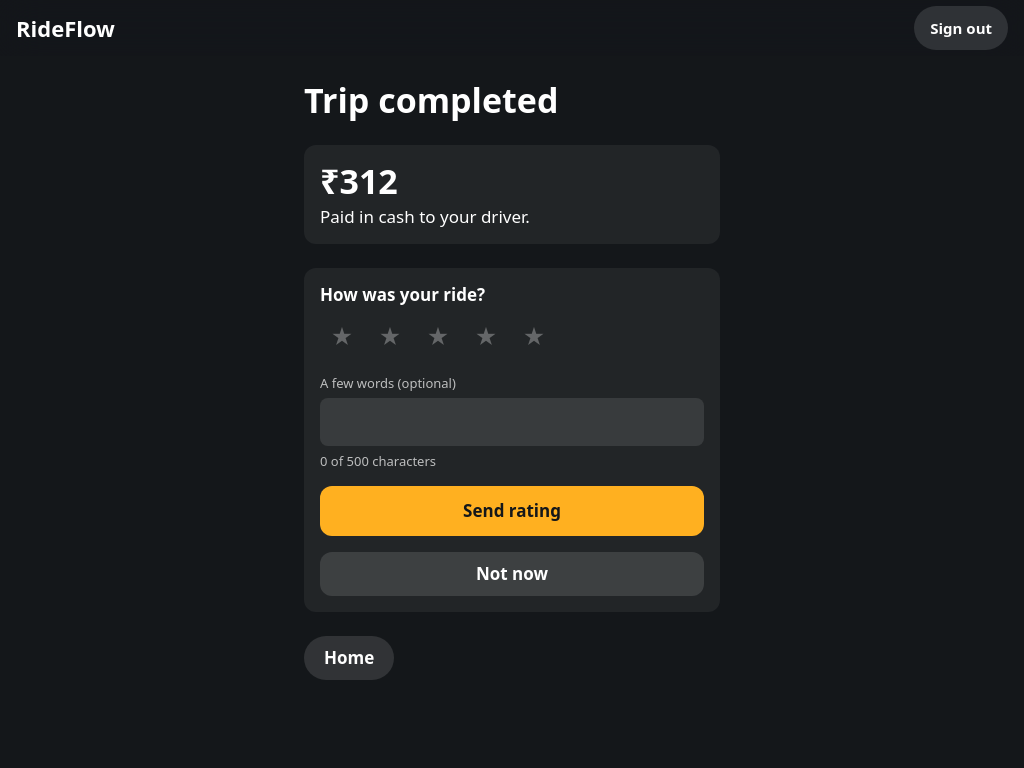
Scenario: rating the trip › can be left for later
Click the button "Not now" at (512, 574), box [320,552,704,596]
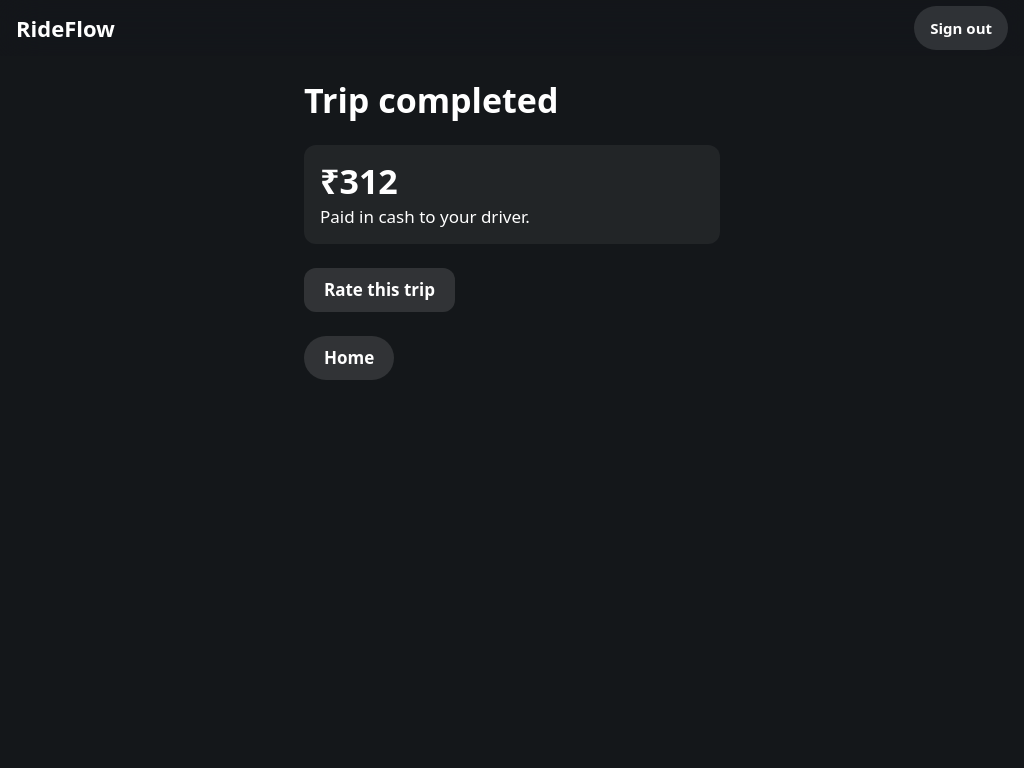
Click the button "Rate this trip" at (380, 290), box [304,268,455,312]
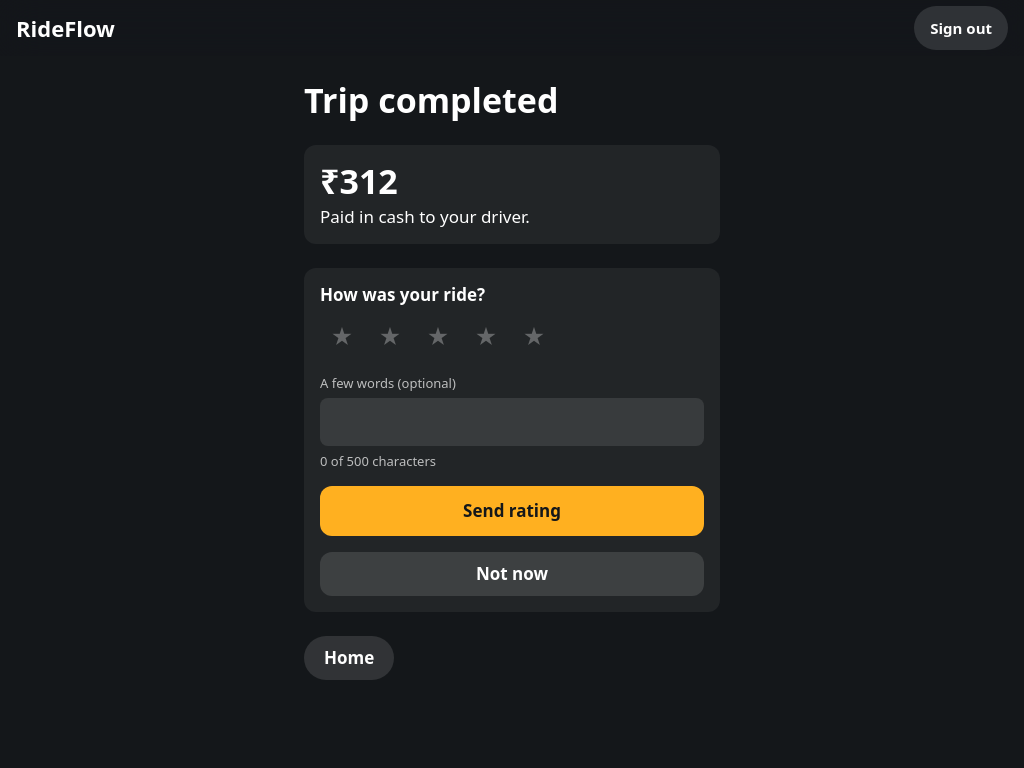
Expected: the form named "Rate this trip" is shown, [304,268,720,612]
